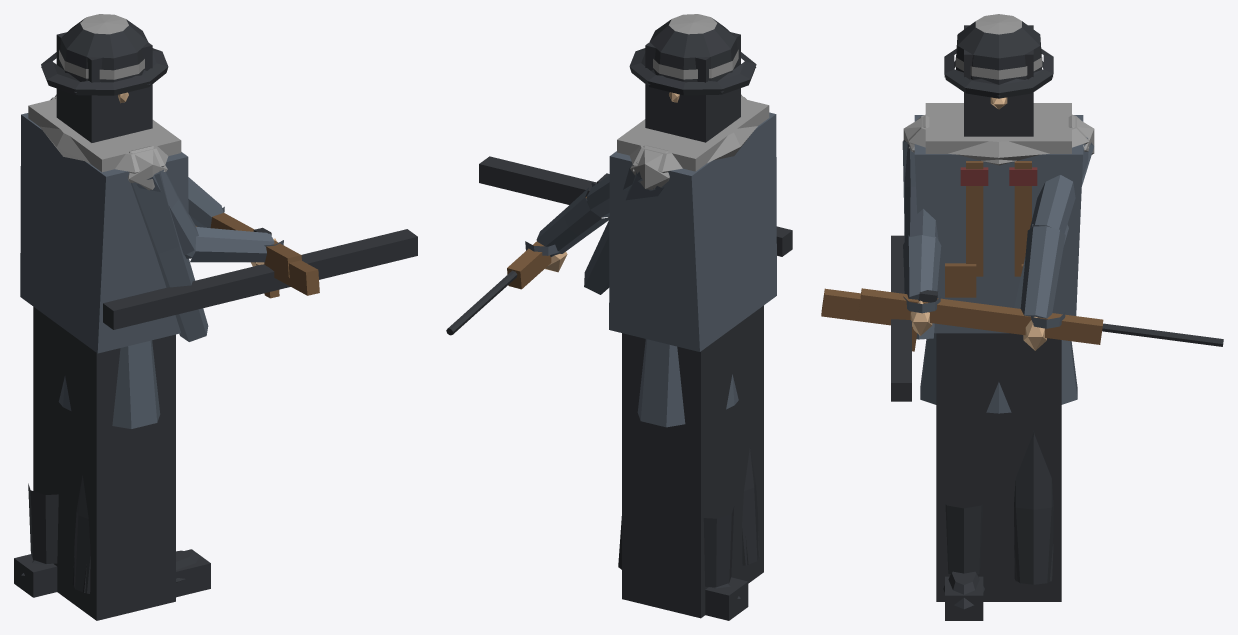
File: veyran_rifleman.glb
3 renders of one model, left to right at view 1: azimuth 30°, elevation 25°; view 2: azimuth 150°, elevation 25°; view 3: azimuth 270°, elevation 25°, orthographic.
Visible parts, largest first — view 1: leg_l (×3), torso (×2), arm_r (×3), head (×2), leg_r (×2), arm_l; view 2: torso (×3), leg_l (×3), head (×2), arm_l (×2), arm_r (×3), leg_r; view 3: leg_l (×2), torso (×2), arm_r (×3), head (×2), arm_l, leg_r (×2).
Part boxes in pixels (x1=…): leg_l (×3): x1=14, y1=307, x2=175, y2=620; torso (×2): x1=20, y1=96, x2=188, y2=428; arm_r (×3): x1=103, y1=146, x2=417, y2=341; head (×2): x1=41, y1=14, x2=168, y2=142; leg_r (×2): x1=72, y1=475, x2=210, y2=597; arm_l: x1=55, y1=94, x2=224, y2=227; torso (×3): x1=609, y1=96, x2=776, y2=427; leg_l (×3): x1=618, y1=305, x2=763, y2=620; head (×2): x1=629, y1=14, x2=756, y2=142; arm_l (×2): x1=525, y1=145, x2=669, y2=294; arm_r (×3): x1=446, y1=94, x2=792, y2=335; leg_r: x1=742, y1=448, x2=758, y2=565; leg_l (×2): x1=936, y1=333, x2=1061, y2=601; torso (×2): x1=908, y1=103, x2=1089, y2=413; arm_r (×3): x1=821, y1=115, x2=1223, y2=401; head (×2): x1=944, y1=14, x2=1053, y2=136; arm_l: x1=1020, y1=115, x2=1094, y2=350; leg_r (×2): x1=943, y1=504, x2=984, y2=620.
Bounding box in the file's own units: 1.07 × 1.77 × 1.16.
